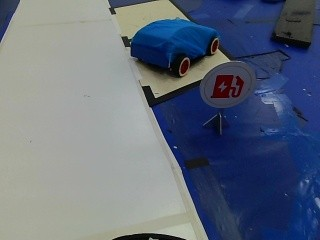battery: (204, 63, 252, 110)
car: (130, 17, 219, 73)
